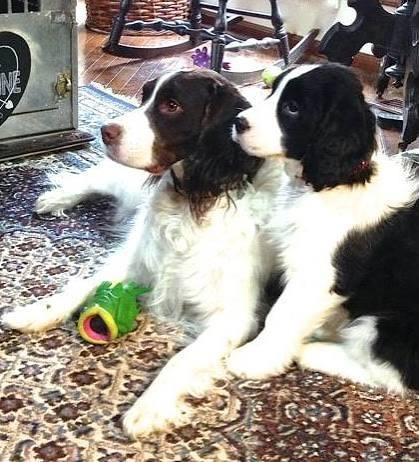adult_dog: (1, 69, 286, 433), (220, 62, 419, 400)
